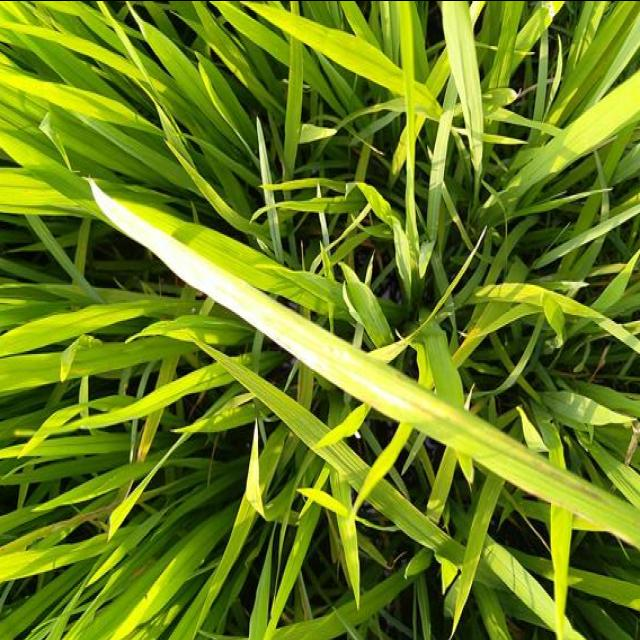Leaf Streak: (88, 177, 530, 466)
